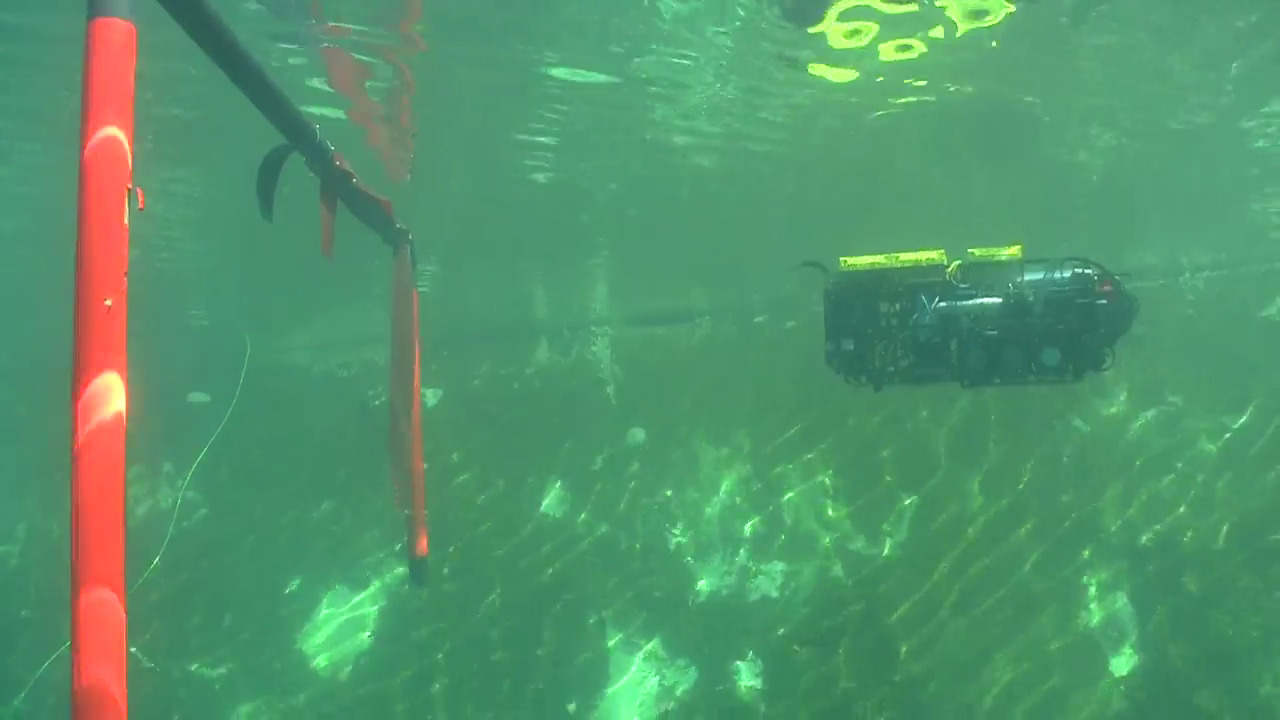gate: (63, 1, 441, 720)
